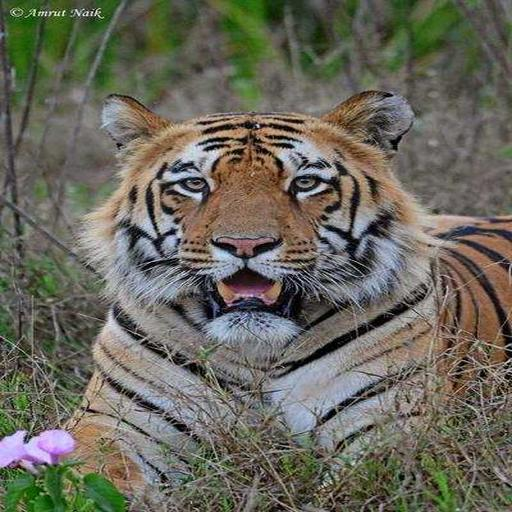Tiger: (0, 81, 512, 512)
